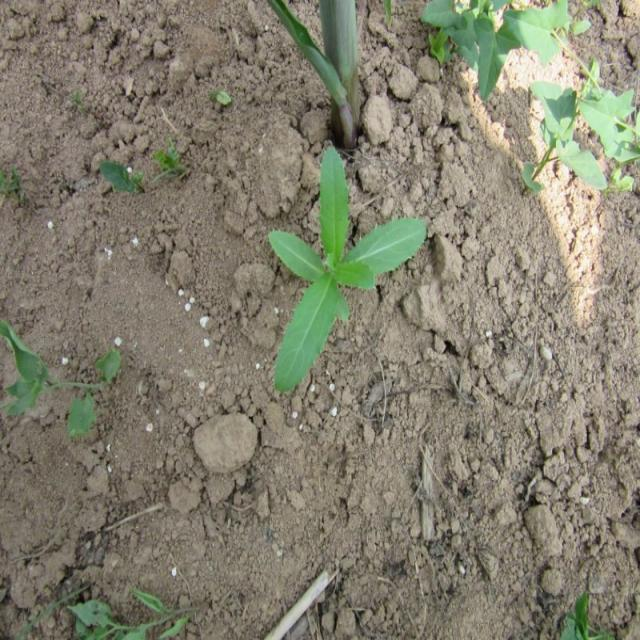cs: (266, 139, 430, 399)
